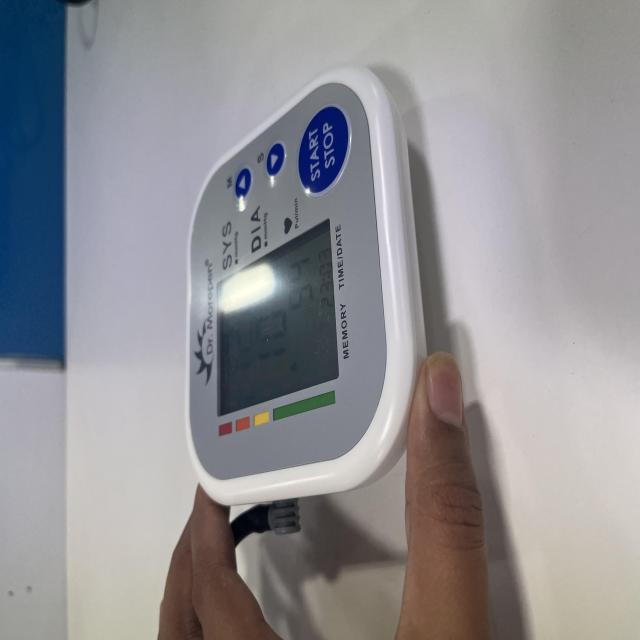bp: (183, 65, 426, 513)
